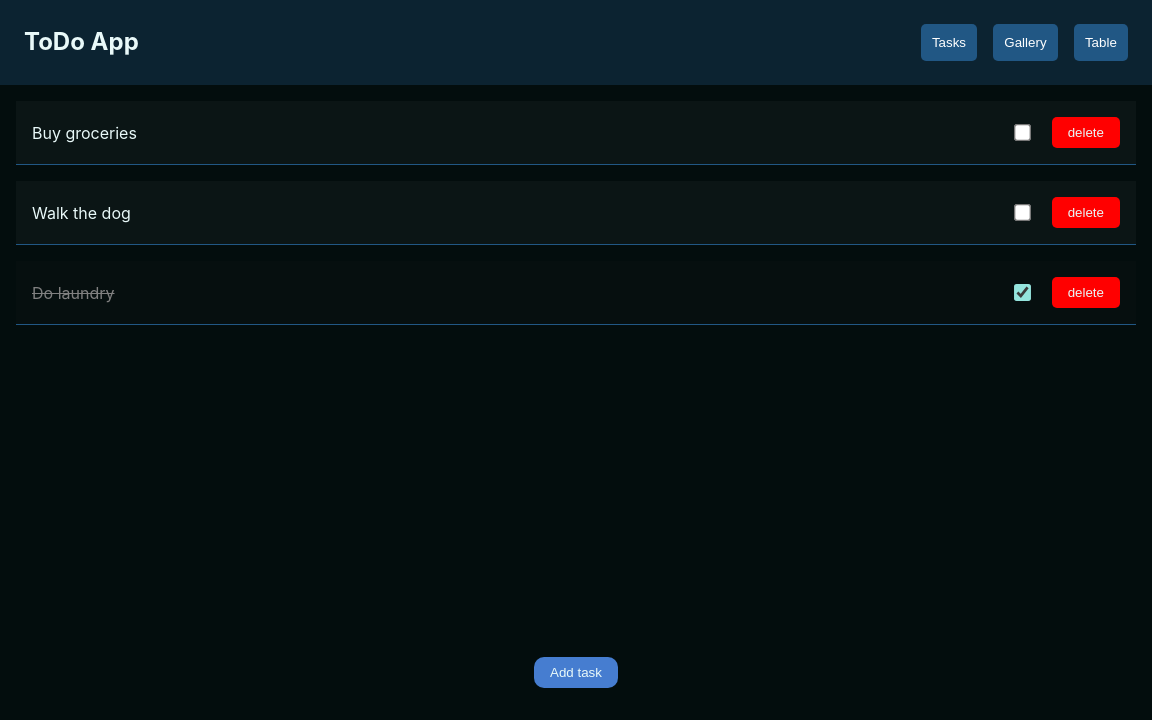
it: Modal › Closes modal when cancel button is clicked
Click the button "Add task". click: (576,672)
box: [534,657,618,688]
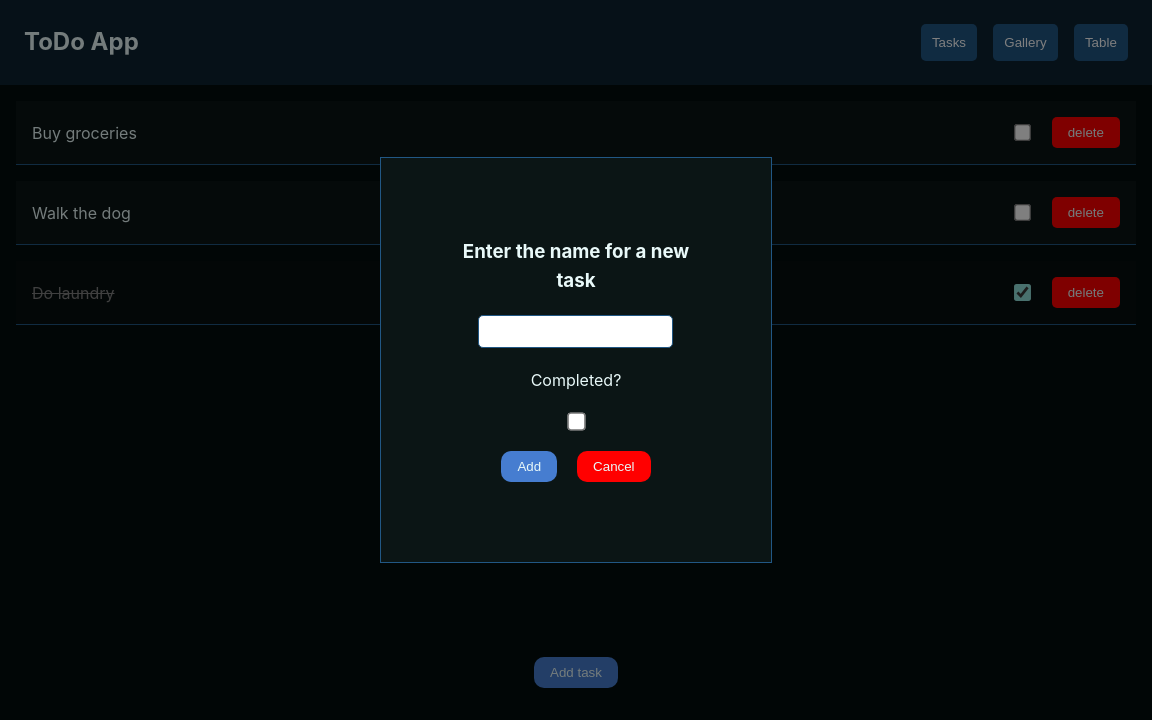
expect the element with id "dialog" is shown: met
Click the button "Cancel". click: (614,466)
box: [577,451,651,482]
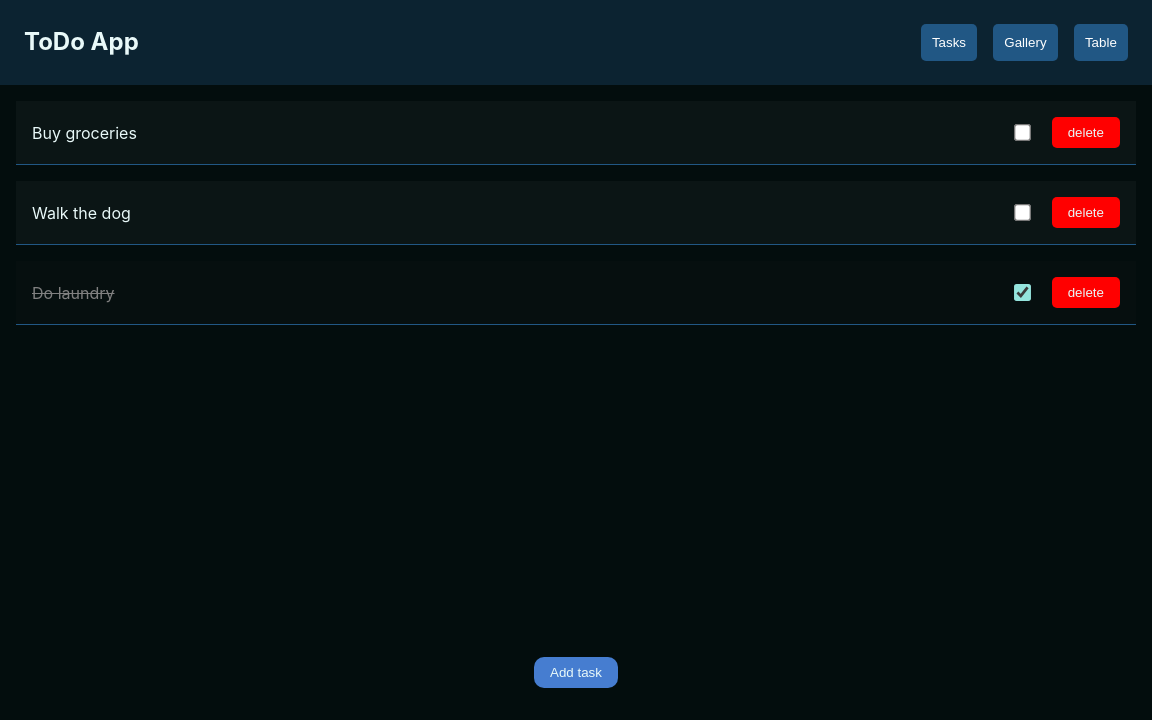
expect the element with id "dialog" is gone: met
